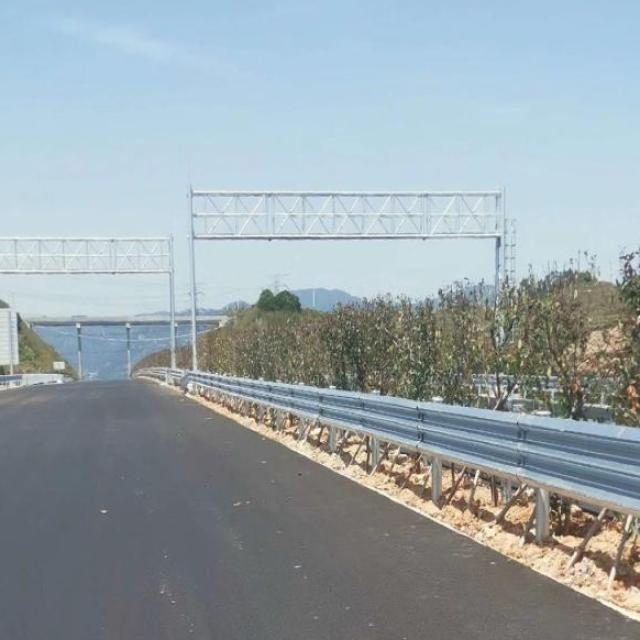Guard rail: (146, 368, 640, 518)
